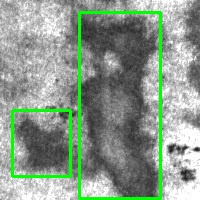patches: (79, 12, 160, 198), (13, 110, 70, 176)
